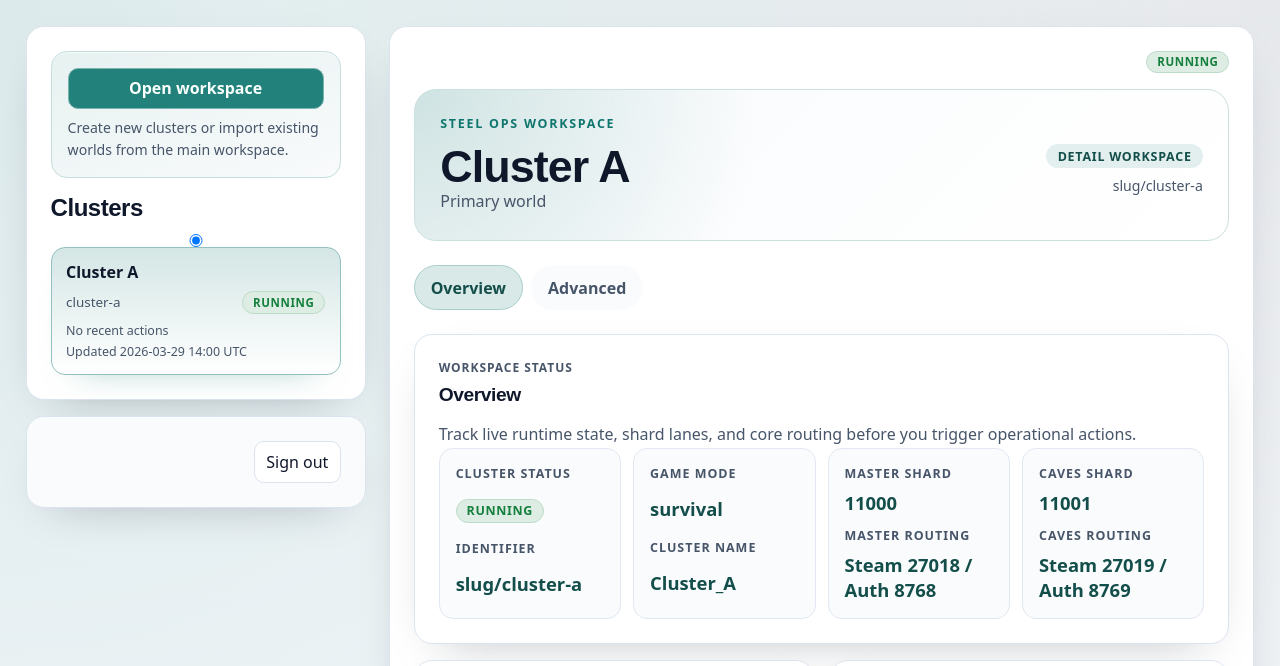
Test case: App › restores an existing session on first load
The image size is (1280, 666).
Expected: the heading "Clusters" is shown, [51,194,143,221]
Expected: the heading "Cluster A" is shown, [440,144,630,189]
Click the button "Open workspace" at (196, 88), box [68,68,324,109]
(page scrolled)
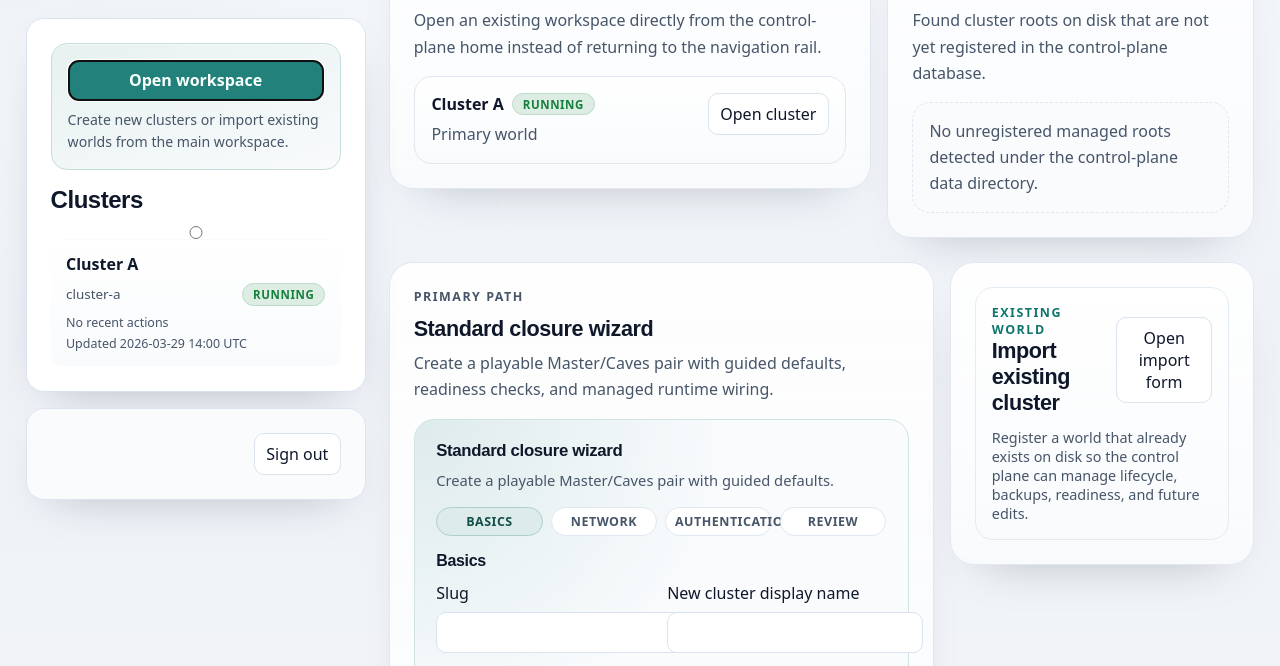
Expected: the heading "Basics" is shown, [436,552,486,569]
Click the button "Open import form" at (1164, 360), box [1116,317,1212,403]
(page scrolled)
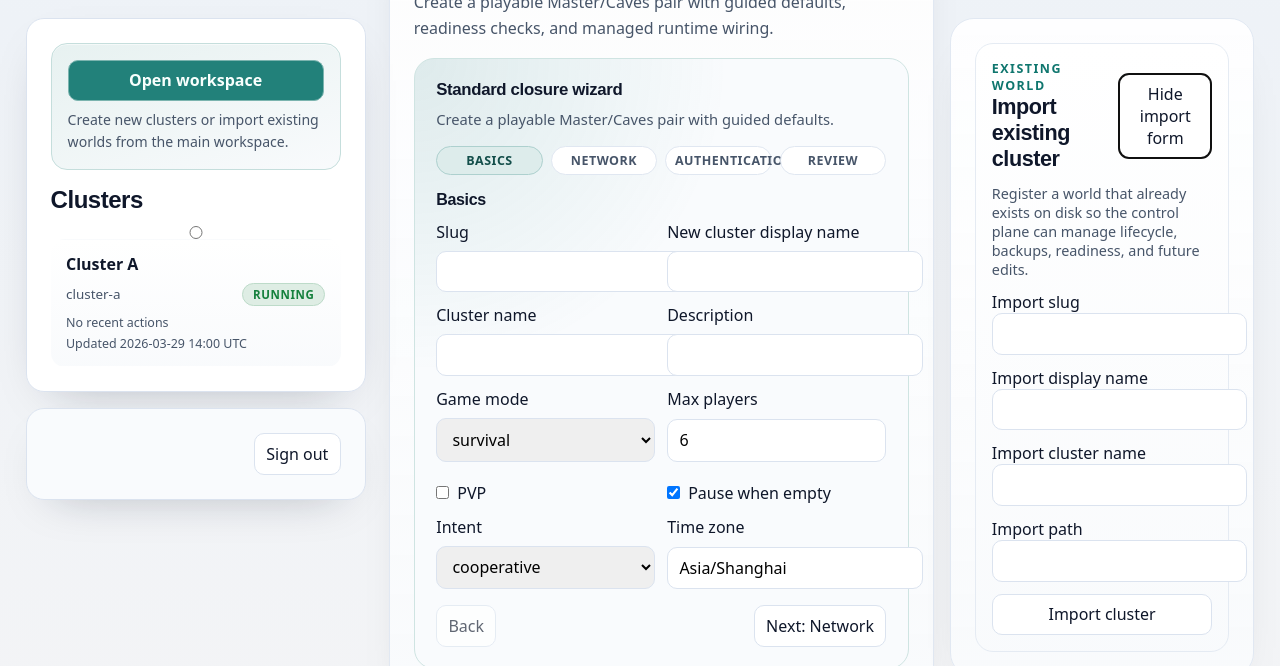
Expected: the button "Import cluster" is shown, [992,593,1212,635]
Expected: the field labelled "Import path" is shown, [992,540,1247,581]
